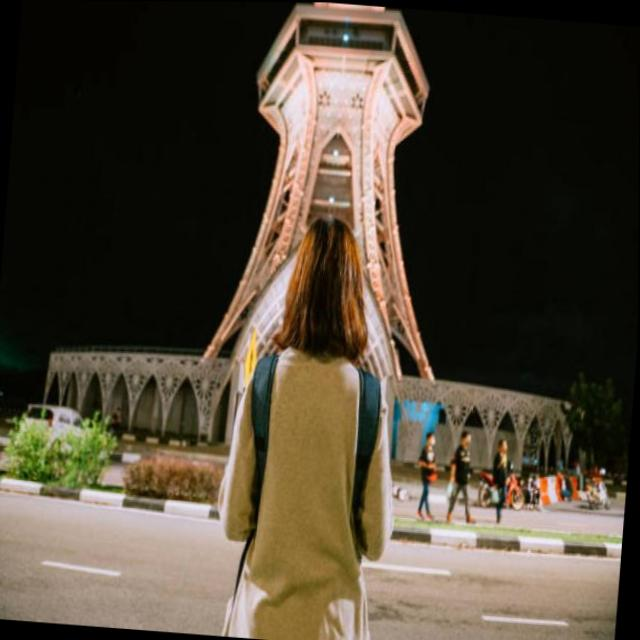no helmet: (283, 214, 377, 370)
